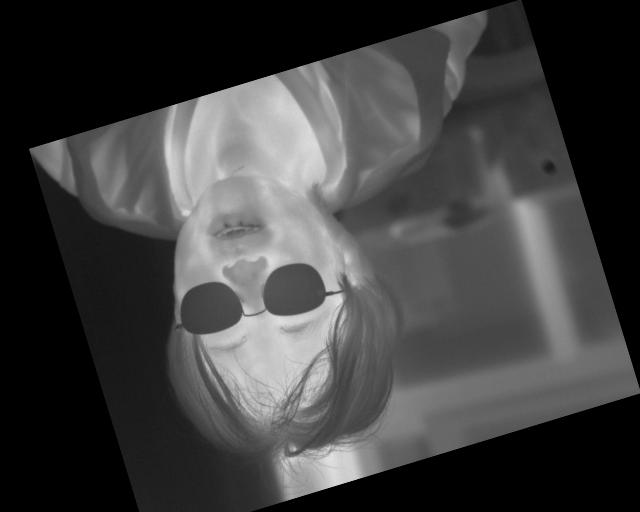face: (433, 310, 622, 512), (181, 288, 307, 429)
